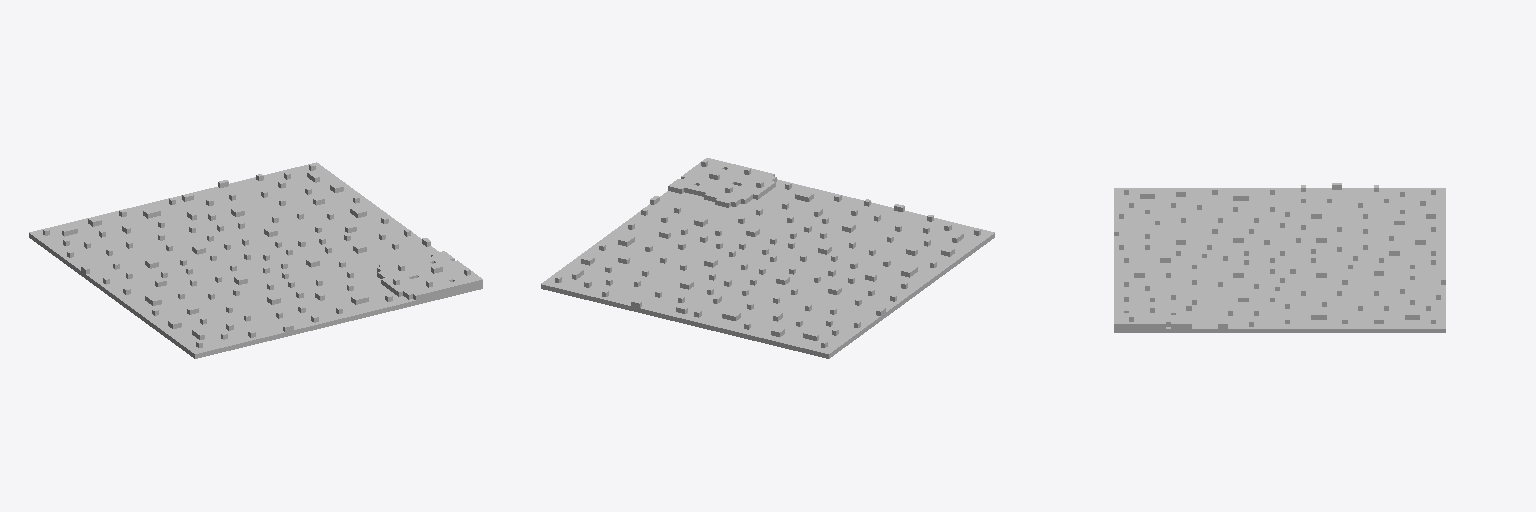
File: EarthPathTurn_3.obj
The picture shows the model from 3 angles: view 1: azimuth 30°, elevation 25°; view 2: azimuth 150°, elevation 25°; view 3: azimuth 270°, elevation 25°; orthographic projection.
Parts seen in each view (by area): view 1: EarthPathTurn_3.001; view 2: EarthPathTurn_3.001; view 3: EarthPathTurn_3.001.
Boxes of the visible parts, x1,y1,x2,y2 form: EarthPathTurn_3.001: [29, 162, 482, 358]; EarthPathTurn_3.001: [541, 158, 994, 358]; EarthPathTurn_3.001: [1114, 183, 1445, 332].
Bounding box in the file's own units: 1 × 0.0469 × 1.